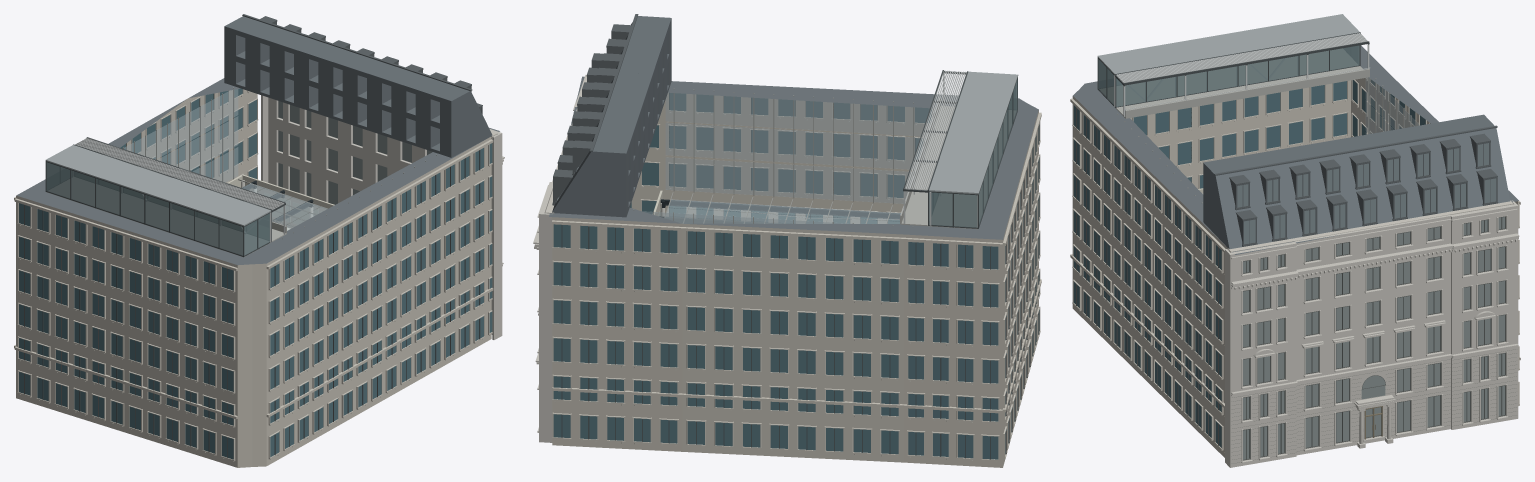
File: ckk-exterior-2714a9cd2b04.glb
The picture shows the model from 3 angles, left to right: view 1: azimuth 30°, elevation 25°; view 2: azimuth 150°, elevation 25°; view 3: azimuth 270°, elevation 25°; orthographic projection. The views are drawn at different scales.
Visible parts, largest first — view 1: CKK.001; view 2: CKK.001; view 3: CKK.001.
Boxes of the visible parts, x1,y1,x2,y2 form: CKK.001: (14, 14, 504, 467); CKK.001: (533, 14, 1041, 467); CKK.001: (1070, 14, 1520, 467).
Size of the model in its own units: 56.1 by 32.3 by 47.89.
